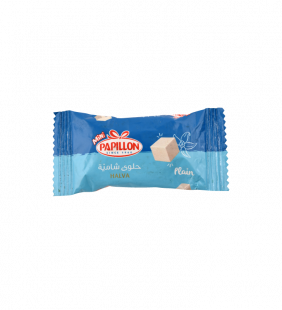PAPILLON: (48, 103, 234, 201)
